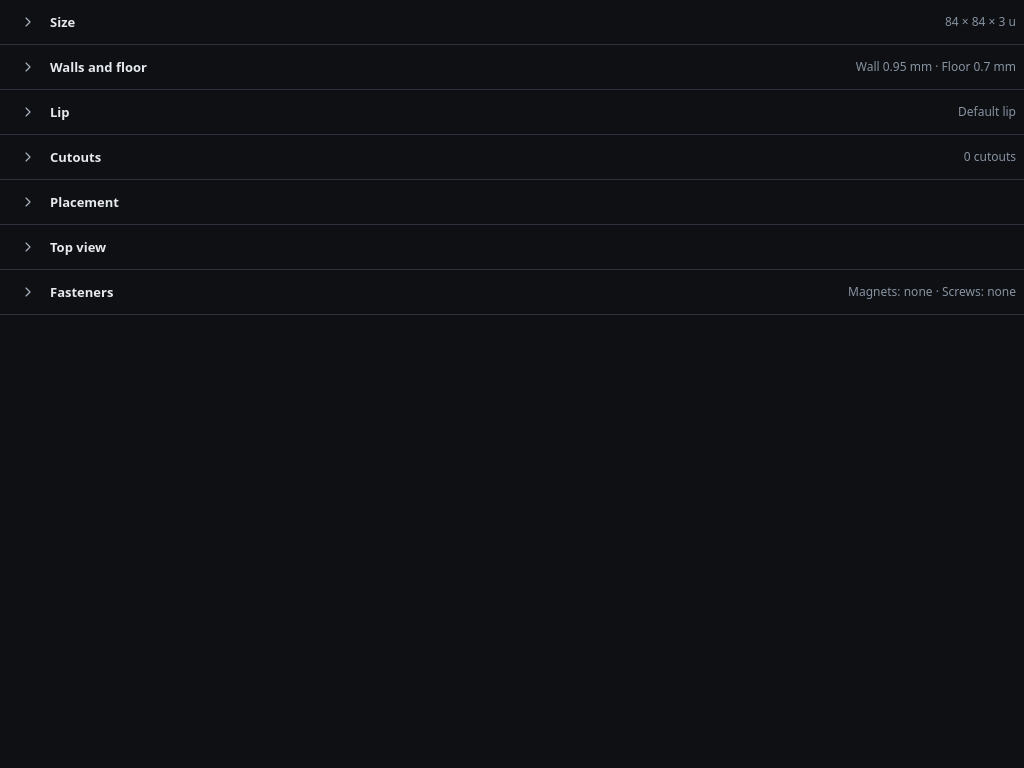
окно «Из фото»: снимок, советы и бумага (3.1) › кнопка открывает окно; Esc закрывает и возвращает фокус на кнопку
Click the button named "Expand: Cutouts" at [28, 157], box [12, 141, 44, 173]
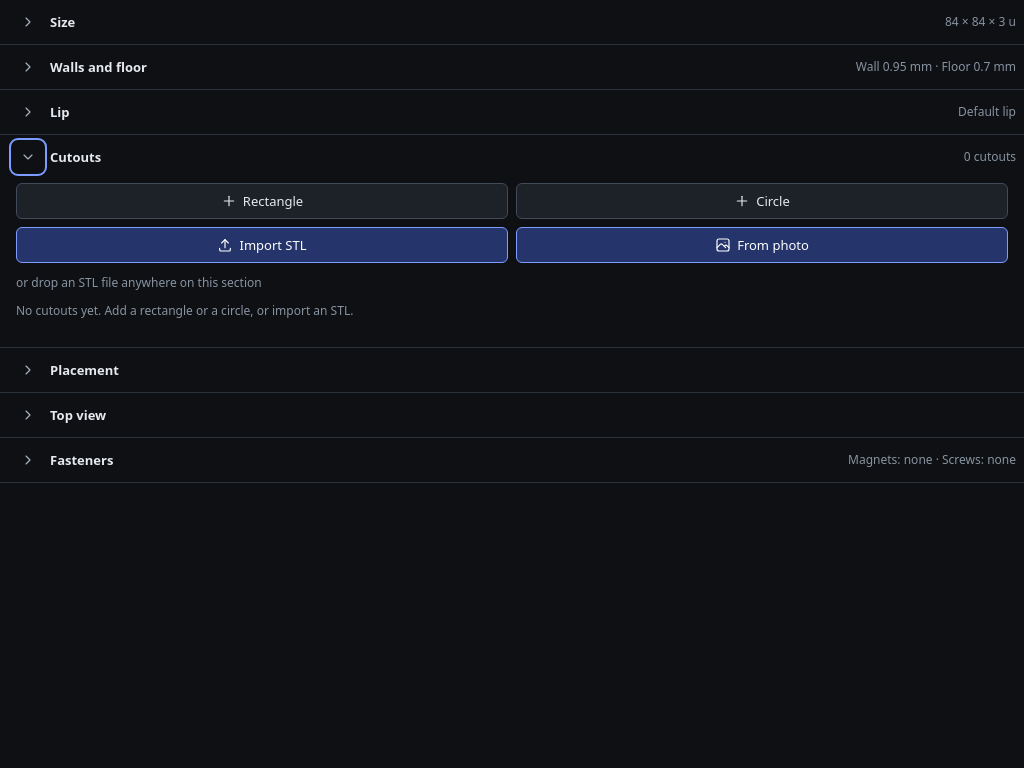
Click the button "From photo" at [762, 245], box [516, 227, 1008, 263]
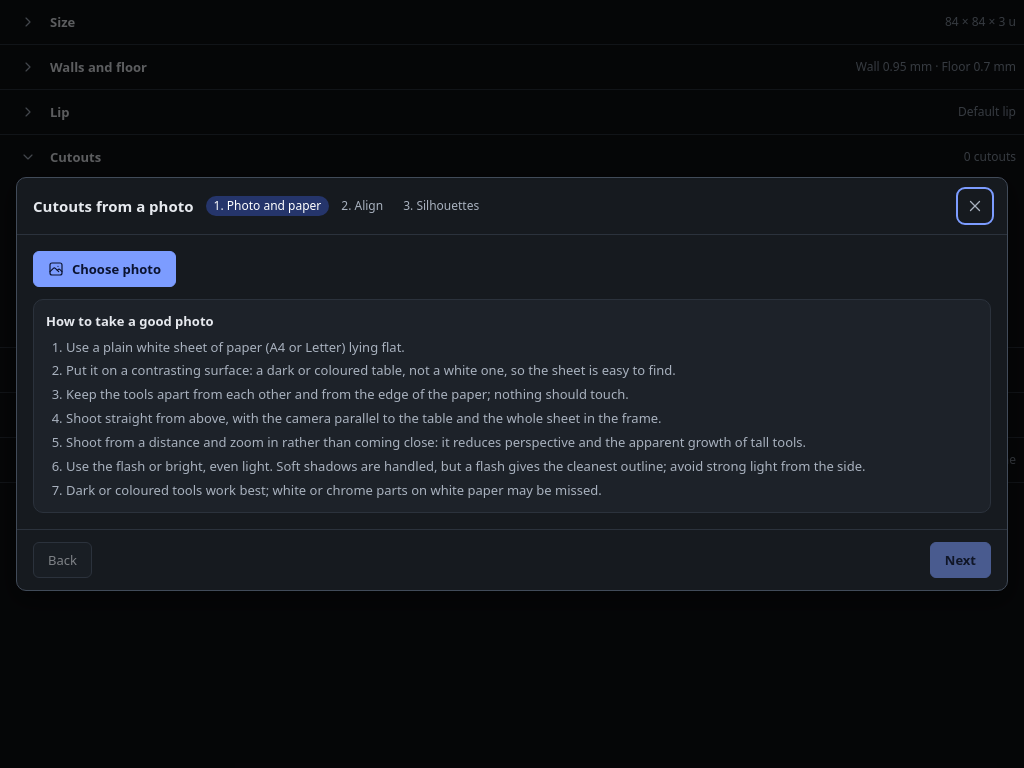
Expected: the dialog "Cutouts from a photo" is shown, [16, 177, 1008, 591]
Press Escape
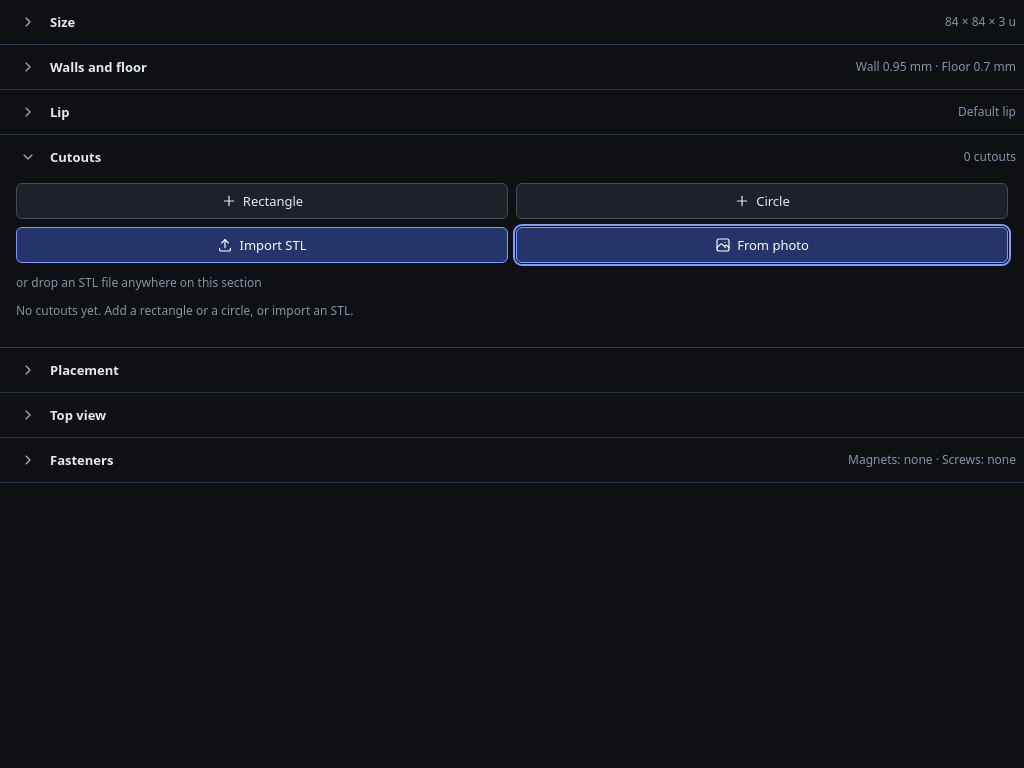
Expected: the dialog is gone
